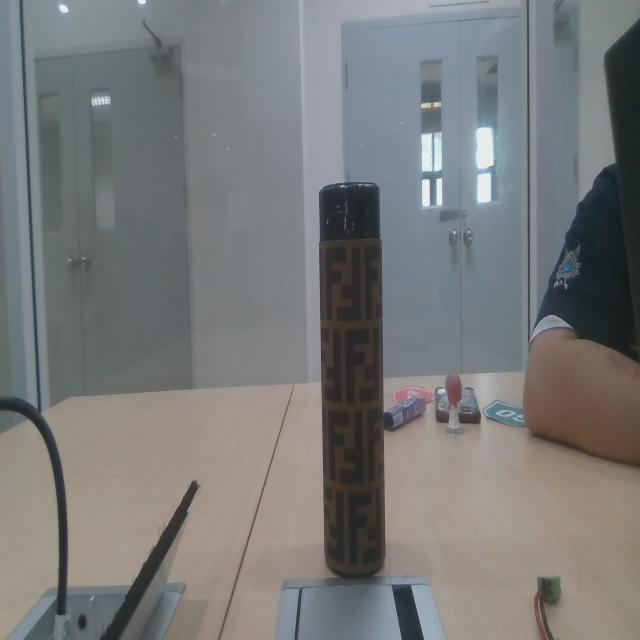Pole: (303, 166, 400, 595)
